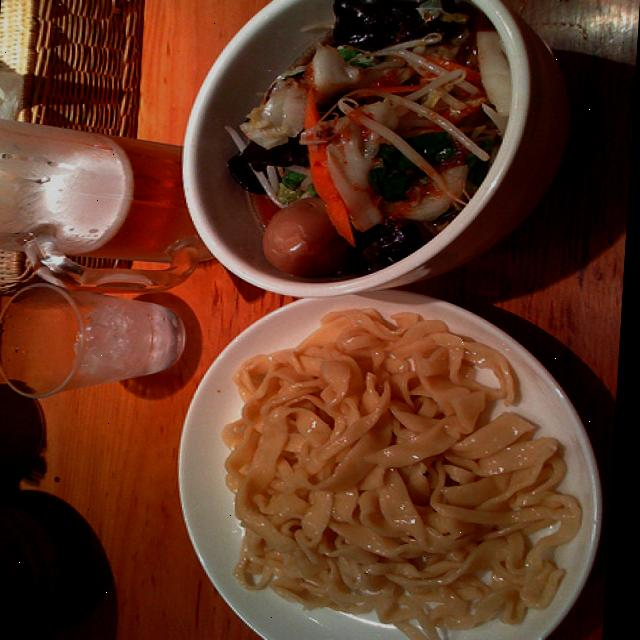面条主食: (201, 1, 604, 634)
